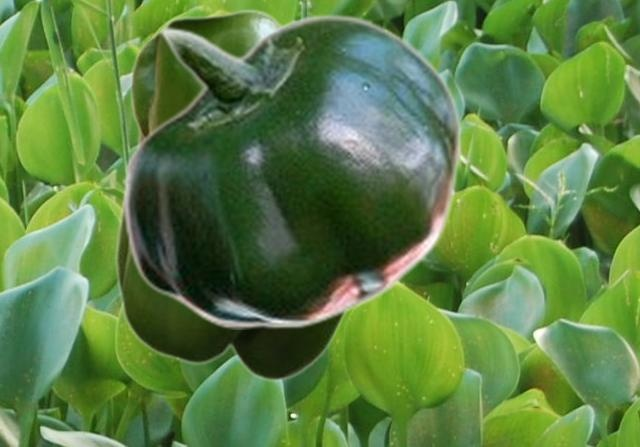bell_pepper: (120, 13, 461, 328), (114, 8, 349, 381)
